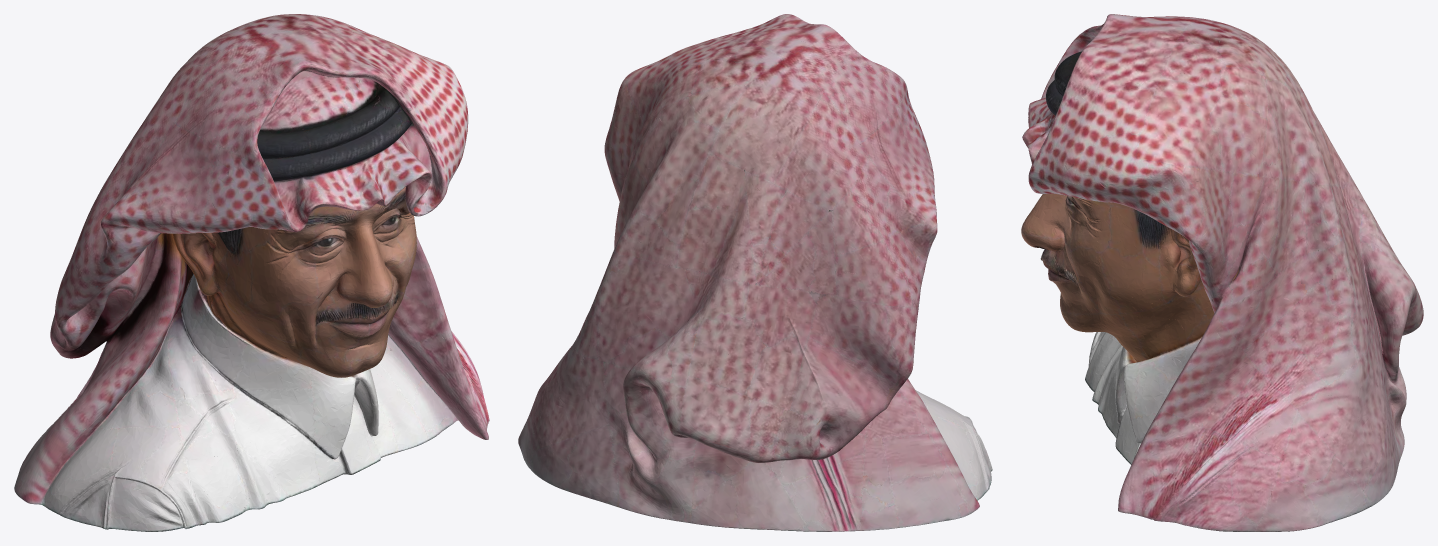
The model's file is Gassibi.preview-v1.glb.
The picture shows the model from 3 angles, left to right: view 1: azimuth 30°, elevation 25°; view 2: azimuth 150°, elevation 25°; view 3: azimuth 270°, elevation 25°; orthographic projection. The views are drawn at different scales.
Parts seen in each view (by area): view 1: tmpj6vgytgu.obj; view 2: tmpj6vgytgu.obj; view 3: tmpj6vgytgu.obj.
Part boxes in pixels (x1=…): tmpj6vgytgu.obj: x1=14, y1=14, x2=489, y2=531; tmpj6vgytgu.obj: x1=518, y1=14, x2=992, y2=531; tmpj6vgytgu.obj: x1=1021, y1=14, x2=1423, y2=531.
Size of the model in its own units: 1.6 by 1.44 by 1.28.
Materials: 1 (1 with a texture image).
